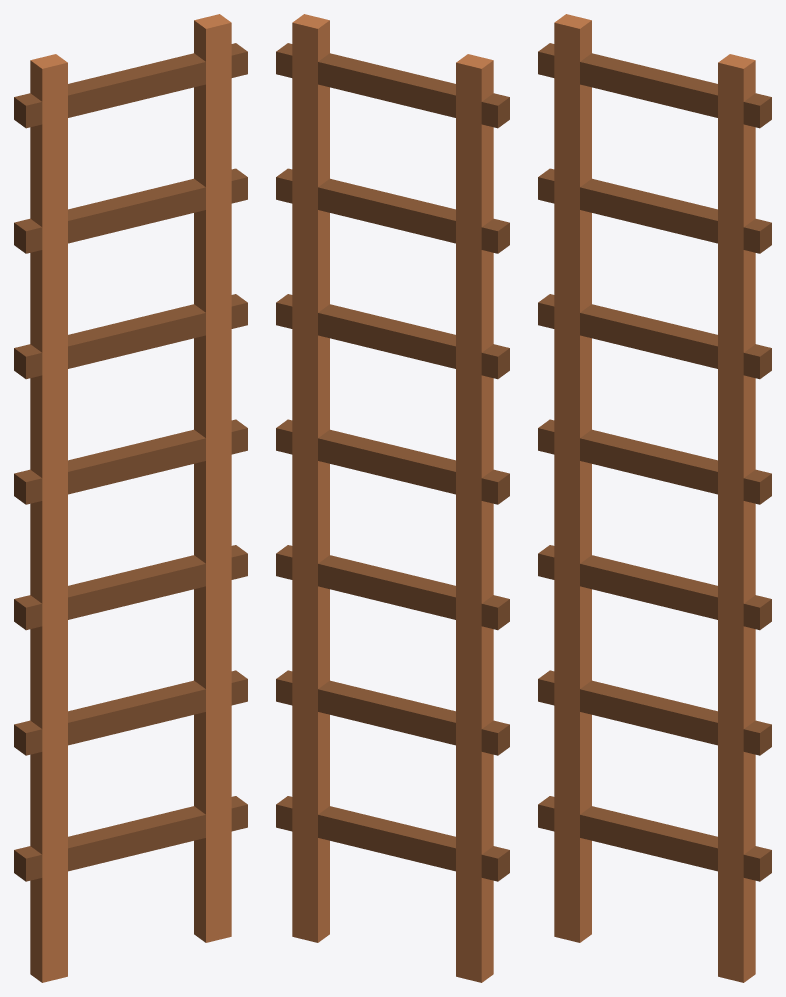
File: ladder.fbx
3 renders of one model, left to right at view 1: azimuth 30°, elevation 25°; view 2: azimuth 150°, elevation 25°; view 3: azimuth 330°, elevation 25°, orthographic.
Visible parts, largest first — view 1: ladder; view 2: ladder; view 3: ladder.
Boxes of the visible parts, x1,y1,x2,y2 form: ladder: [14, 14, 247, 982]; ladder: [276, 14, 509, 982]; ladder: [538, 14, 771, 982].
Size of the model in its own units: 86.39 by 340 by 8.
1 material, 1 textured.
